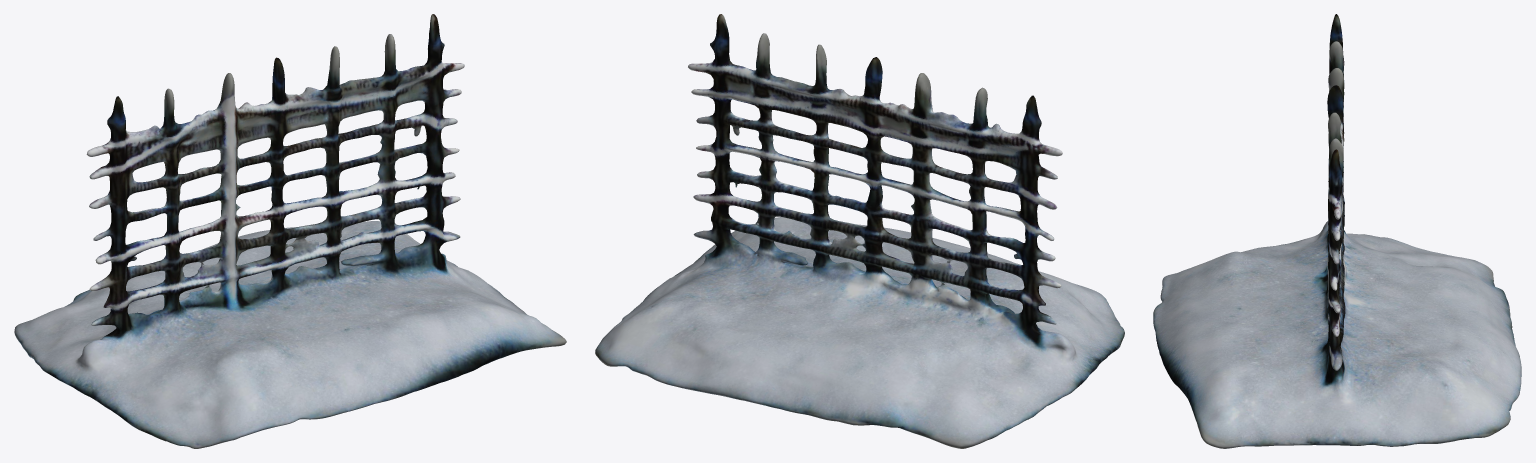
File: 0f70e577eeae_Create_a_fence_for_.fbx
3 renders of one model, left to right at view 1: azimuth 30°, elevation 25°; view 2: azimuth 150°, elevation 25°; view 3: azimuth 270°, elevation 25°, orthographic. The views are drawn at different scales.
Parts seen in each view (by area): view 1: high_poly; view 2: high_poly; view 3: high_poly.
Boxes of the visible parts, box(x1,y1,x2,y2) form: high_poly: box(14, 14, 566, 448); high_poly: box(595, 14, 1124, 448); high_poly: box(1153, 14, 1521, 448).
Bounding box in the file's own units: 100 × 65.13 × 79.66.
